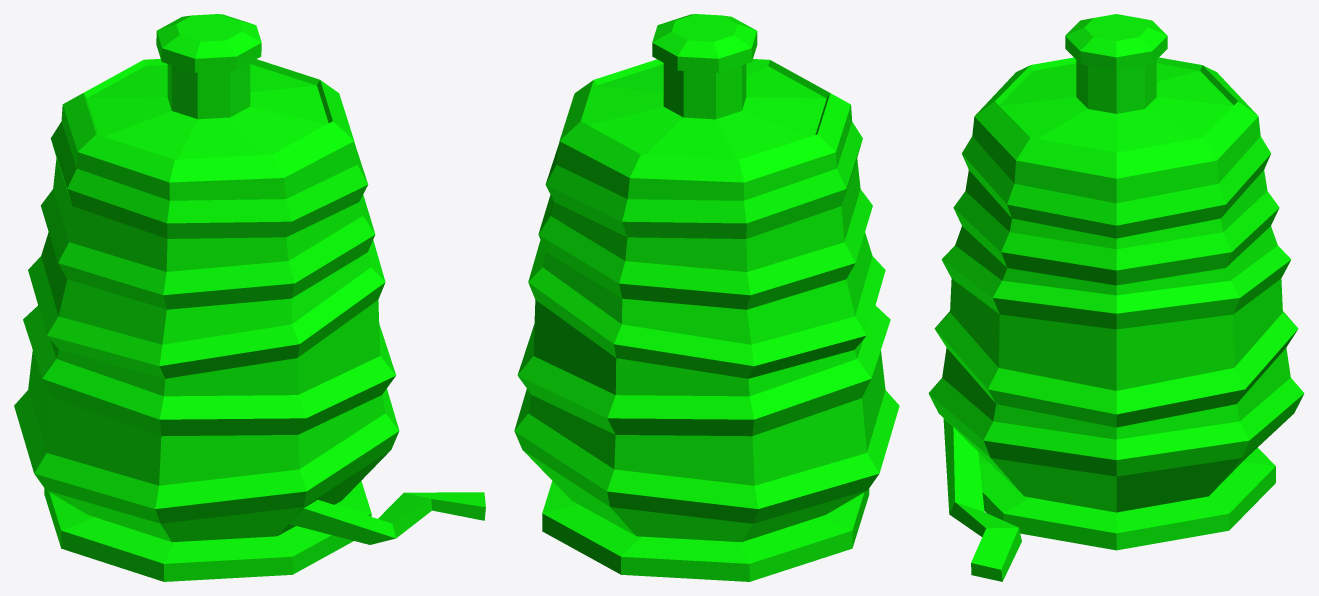
The model's file is SM_Spool_Ribbon_Big.fbx.
The picture shows the model from 3 angles, left to right: view 1: azimuth 30°, elevation 25°; view 2: azimuth 150°, elevation 25°; view 3: azimuth 270°, elevation 25°; orthographic projection. The views are drawn at different scales.
Visible parts, largest first — view 1: spool-ribbon-big; view 2: spool-ribbon-big; view 3: spool-ribbon-big.
Boxes of the visible parts, left/top/right/bottom form: spool-ribbon-big: left=14, top=14, right=485, bottom=581; spool-ribbon-big: left=514, top=14, right=899, bottom=581; spool-ribbon-big: left=928, top=14, right=1304, bottom=581.
Size of the model in its own units: 0.1436 by 0.1712 by 0.1278.
